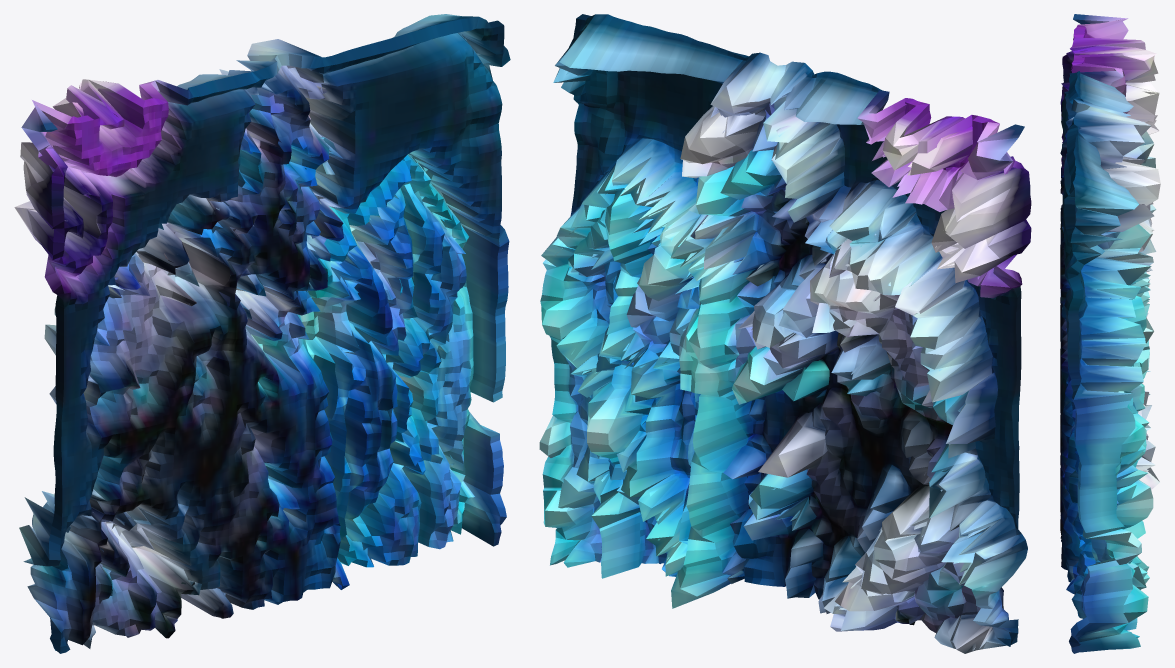
Rendered from gardien-omega-relief.glb.
3 renders of one model, left to right at view 1: azimuth 30°, elevation 25°; view 2: azimuth 150°, elevation 25°; view 3: azimuth 270°, elevation 25°, orthographic. The views are drawn at different scales.
Visible parts, largest first — view 1: RELIEF_REFERENCE_gardien-omega; view 2: RELIEF_REFERENCE_gardien-omega; view 3: RELIEF_REFERENCE_gardien-omega.
Part boxes in pixels (x1,y1,x2,y2): RELIEF_REFERENCE_gardien-omega: [14, 14, 510, 653]; RELIEF_REFERENCE_gardien-omega: [539, 14, 1031, 653]; RELIEF_REFERENCE_gardien-omega: [1060, 14, 1160, 653].
Bounding box in the file's own units: 3.15 × 3.54 × 0.6889.
1 material, 1 textured.
